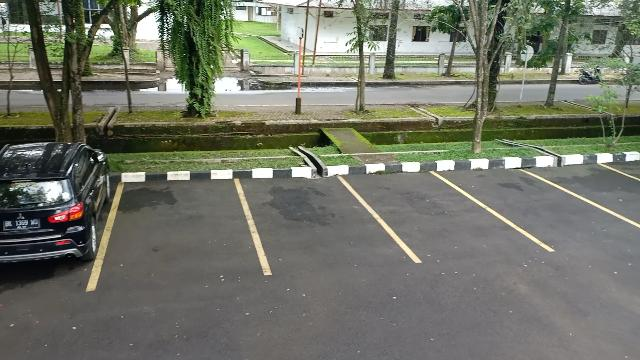empty: (107, 166, 260, 280), (247, 166, 375, 276), (376, 168, 496, 268), (490, 162, 584, 254)
occupied: (0, 152, 108, 288)
